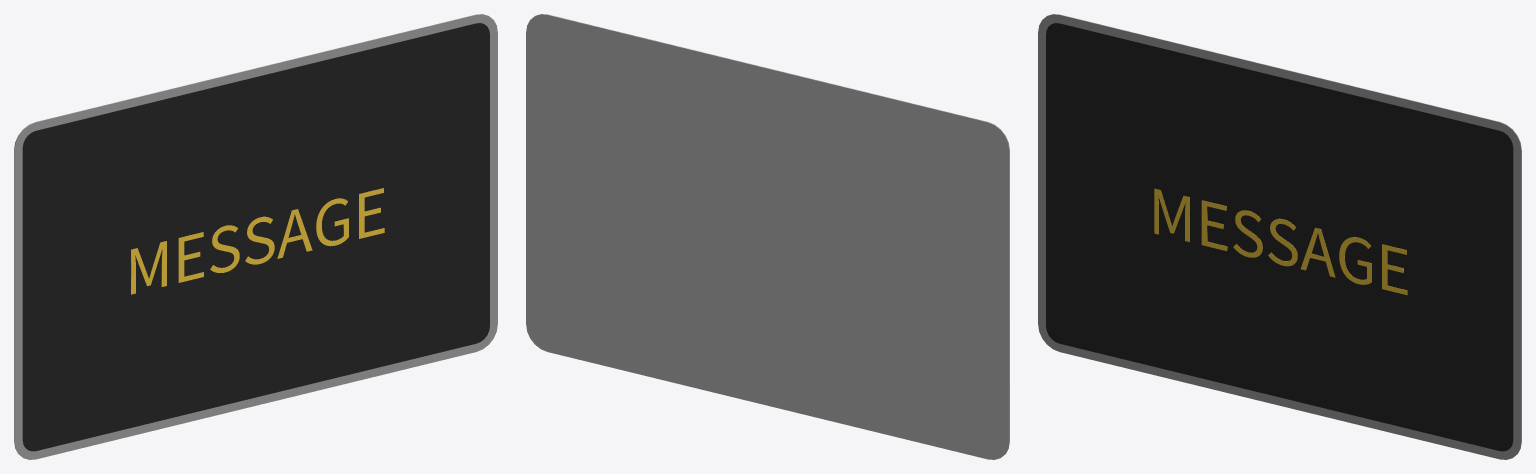
The picture shows the model from 3 angles, left to right: view 1: azimuth 30°, elevation 25°; view 2: azimuth 150°, elevation 25°; view 3: azimuth 330°, elevation 25°; orthographic projection.
Parts seen in each view (by area): view 1: X50_r01, X50_r00, X50_txt02, X50_dos; view 2: X50_dos, X50_r00; view 3: X50_r01, X50_r00, X50_txt02, X50_dos.
Boxes of the visible parts, box(x1,y1,x2,y2) form: X50_r01: box(22, 23, 489, 451); X50_r00: box(14, 14, 497, 459); X50_txt02: box(131, 188, 384, 294); X50_dos: box(14, 14, 487, 452); X50_dos: box(526, 14, 1009, 459); X50_r00: box(542, 14, 1009, 448); X50_r01: box(1046, 23, 1513, 451); X50_r00: box(1038, 14, 1521, 459); X50_txt02: box(1154, 188, 1407, 295); X50_dos: box(1048, 14, 1521, 452).
Size of the model in its own units: 0.9 by 0.6 by 0.0025.
